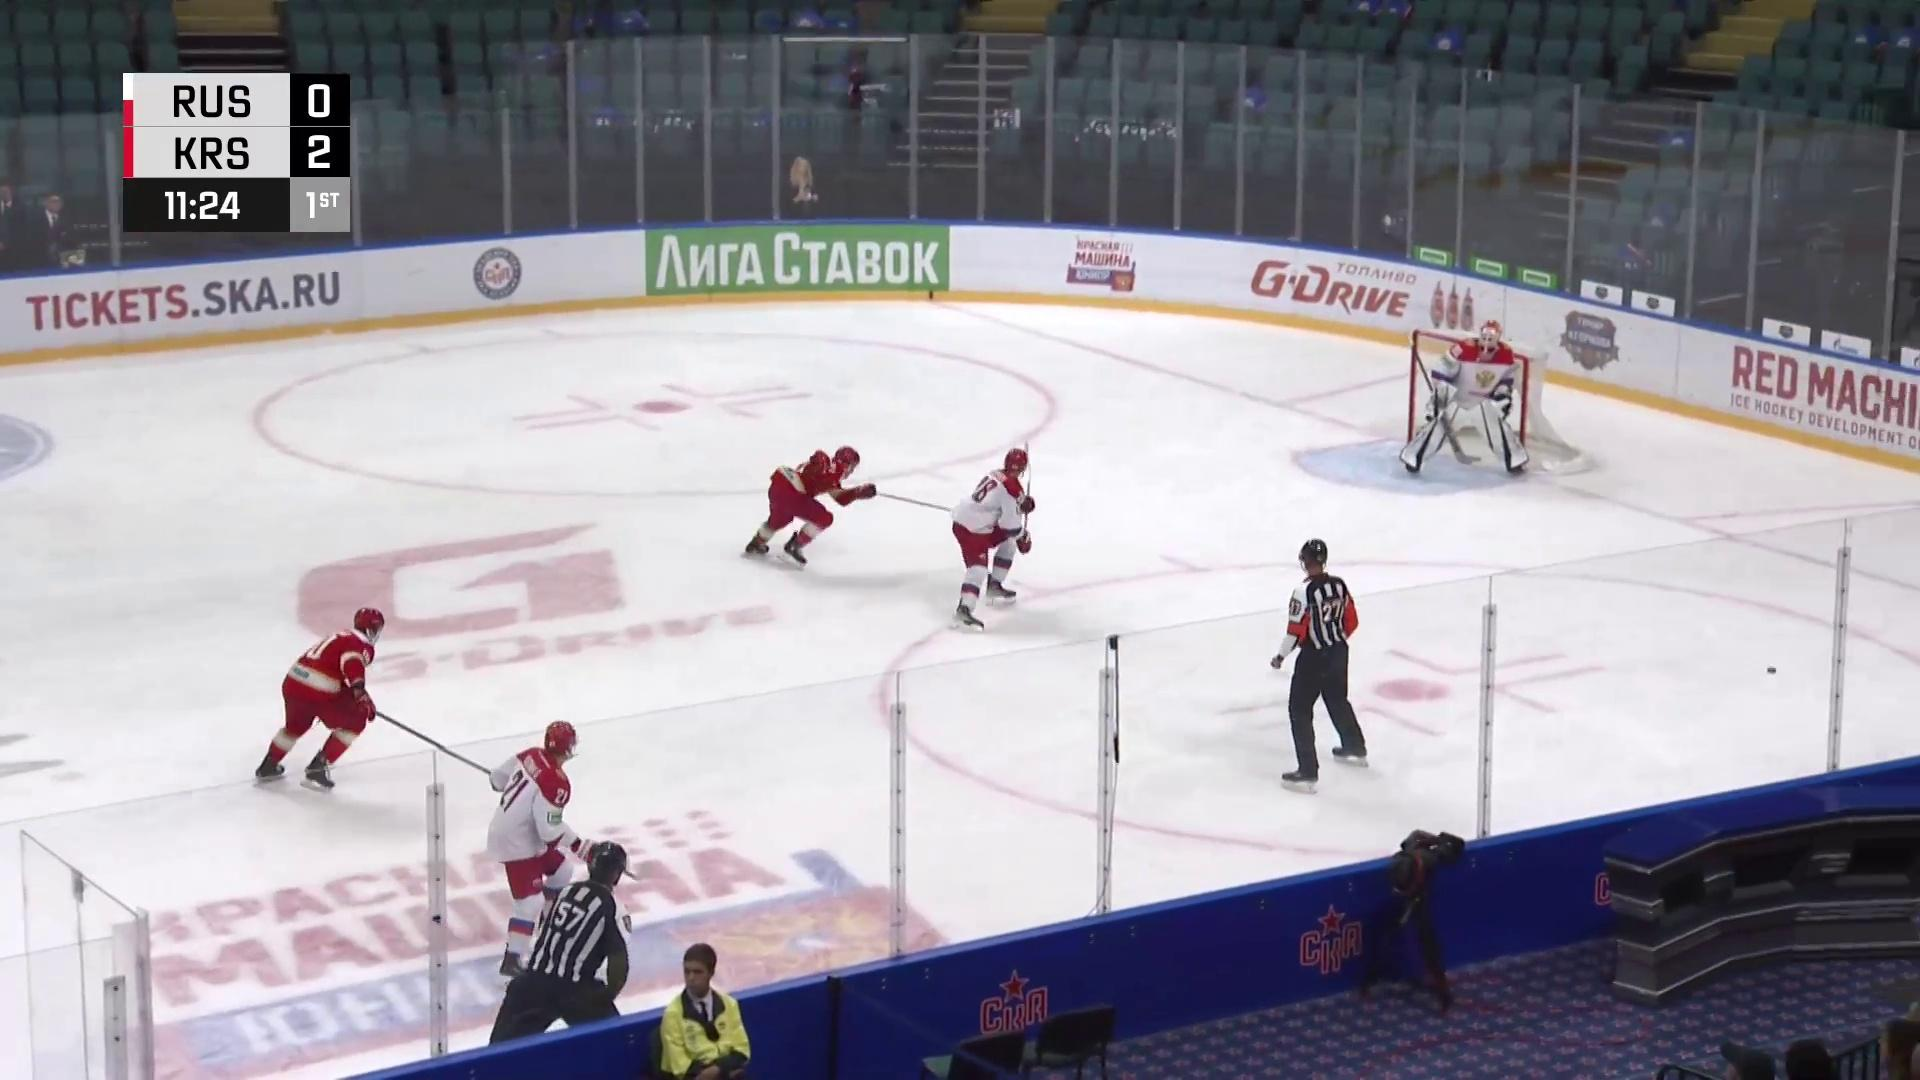ball: (1764, 665, 1780, 675)
